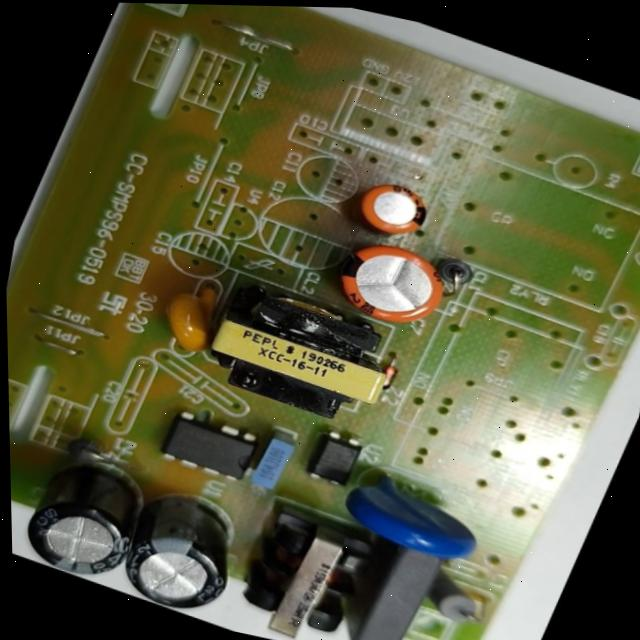Cap1: (310, 220, 466, 350)
Cap2: (342, 164, 446, 251)
Cap3: (95, 474, 268, 631)
Cap4: (10, 443, 169, 596)
MOSFET: (146, 398, 274, 497)
Mov: (320, 453, 503, 578)
Resistor: (408, 563, 500, 637)
Transformer: (173, 255, 424, 447), (213, 485, 401, 640)
